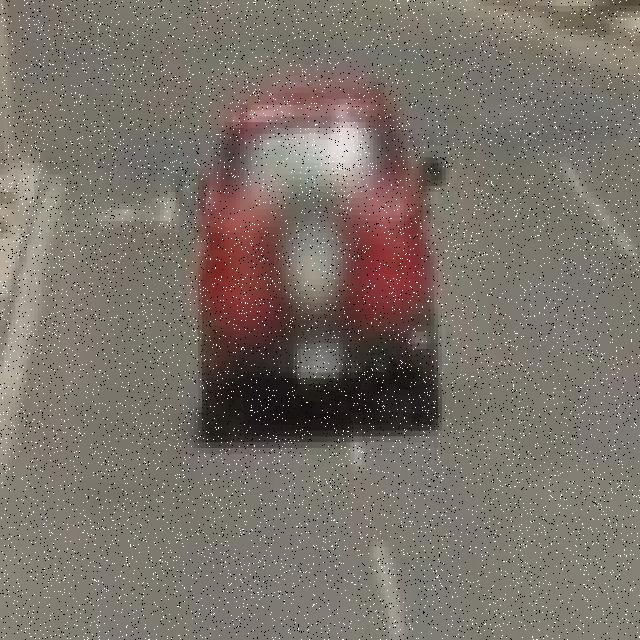cars: (184, 75, 448, 442)
